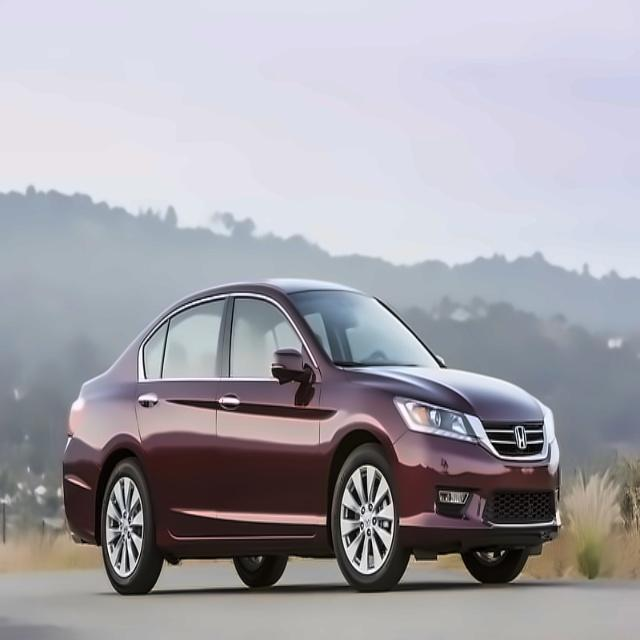Car hood: (343, 365, 551, 425)
Driver-s door - -F-R-: (201, 277, 329, 553)
Fender - -F-R-: (309, 348, 407, 554)
Fender - -R-R-: (75, 327, 146, 498)
Front bumper: (383, 421, 568, 556)
Headlight - -R-: (389, 389, 475, 443)
Passenger-s door - -R-R-: (121, 278, 226, 560)
Rear bumper: (53, 475, 103, 549)
Side bumper - -R-: (146, 523, 333, 572)
Side mirror - -R-: (271, 347, 317, 387)
